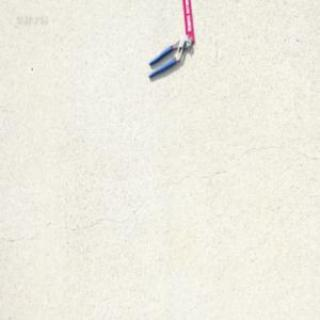LuggageTagtrack_idkeyframe: (180, 0, 193, 43)
Pliertrack_idkeyframe: (146, 32, 192, 78)
